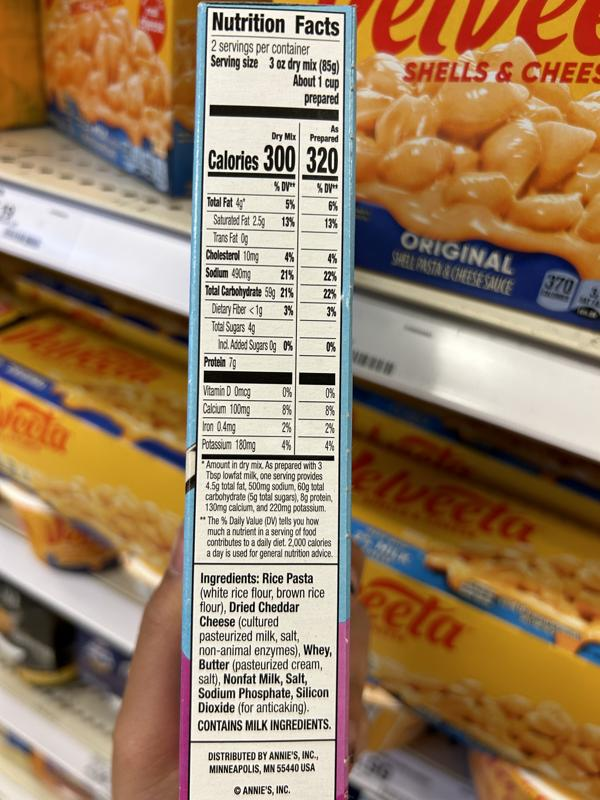ingredients: (197, 570, 335, 717)
